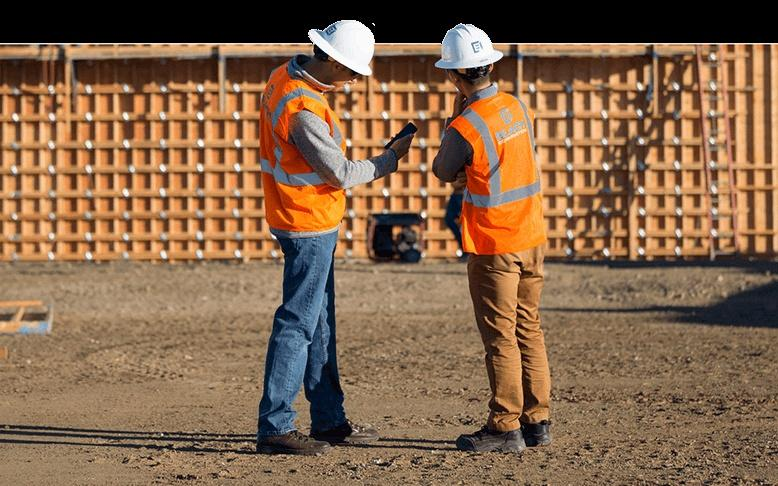helmet: (314, 22, 379, 77), (437, 25, 507, 71)
